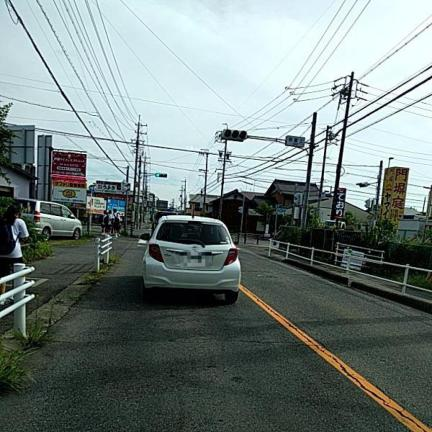Road: (0, 242, 431, 431)
